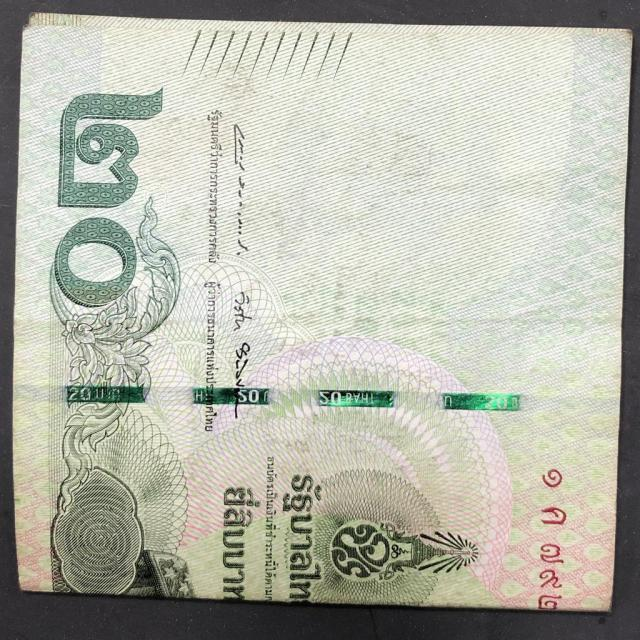THAI20: (11, 14, 633, 615)
